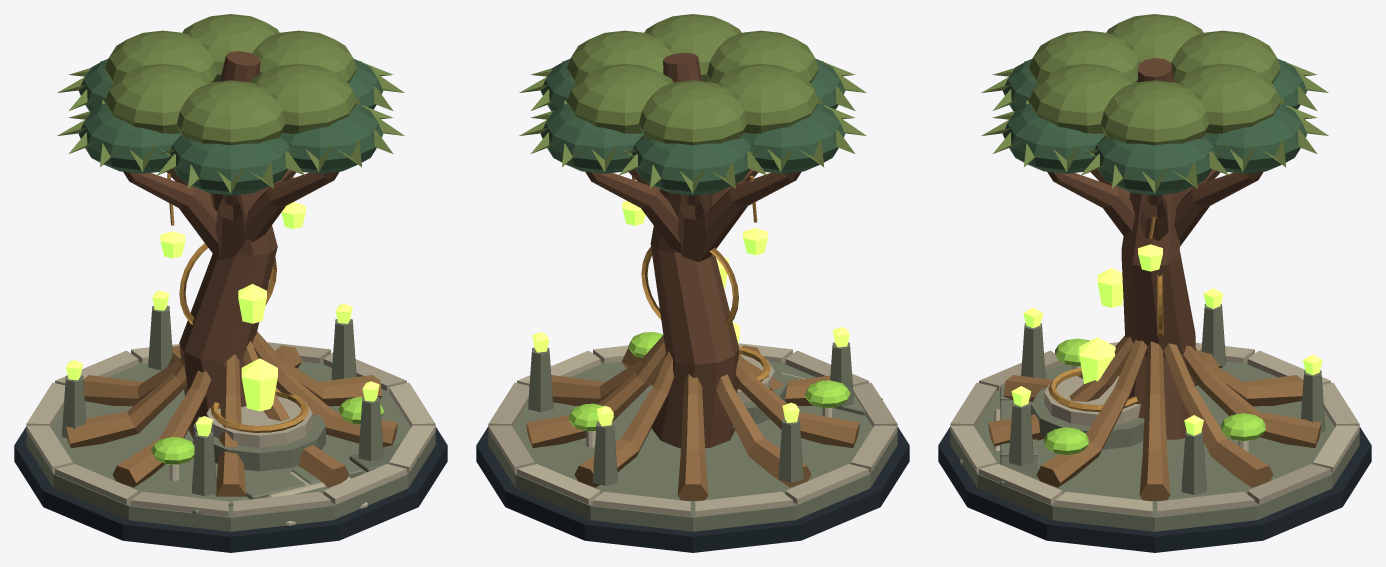
Rendered from nature__bosque__L20.glb.
3 renders of one model, left to right at view 1: azimuth 30°, elevation 25°; view 2: azimuth 150°, elevation 25°; view 3: azimuth 270°, elevation 25°, orthographic.
Visible parts, largest first — view 1: structure, weapon; view 2: structure; view 3: structure, weapon.
Boxes of the visible parts, <box> form: structure: <box>14,14,447,552</box>; weapon: <box>241,358,277,411</box>; structure: <box>476,14,909,552</box>; structure: <box>938,14,1371,552</box>; weapon: <box>1079,337,1115,383</box>.
Size of the model in its own units: 0.8624 by 0.8892 by 0.8624.
